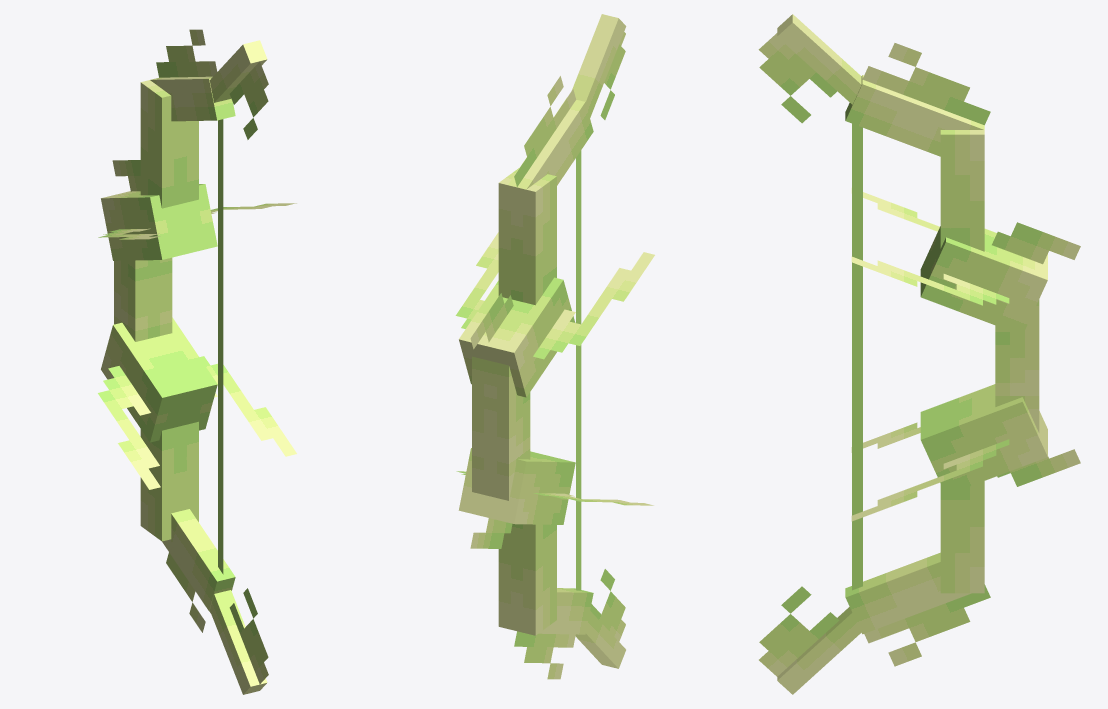
File: archer_bow_spirit_2.gltf
The picture shows the model from 3 angles, left to right: view 1: azimuth 30°, elevation 25°; view 2: azimuth 150°, elevation 25°; view 3: azimuth 270°, elevation 25°; orthographic projection. The views are drawn at different scales.
Visible parts, largest first — view 1: cube (×17); view 2: cube (×18); view 3: cube (×20).
Boxes of the visible parts, left/top/right/bottom form: cube (×17): left=98, top=29, right=296, bottom=694; cube (×18): left=455, top=14, right=654, bottom=679; cube (×20): left=758, top=14, right=1080, bottom=694.
Bounding box in the file's own units: 1.22 × 3.15 × 1.54.
Materials: 1 (1 with a texture image).
